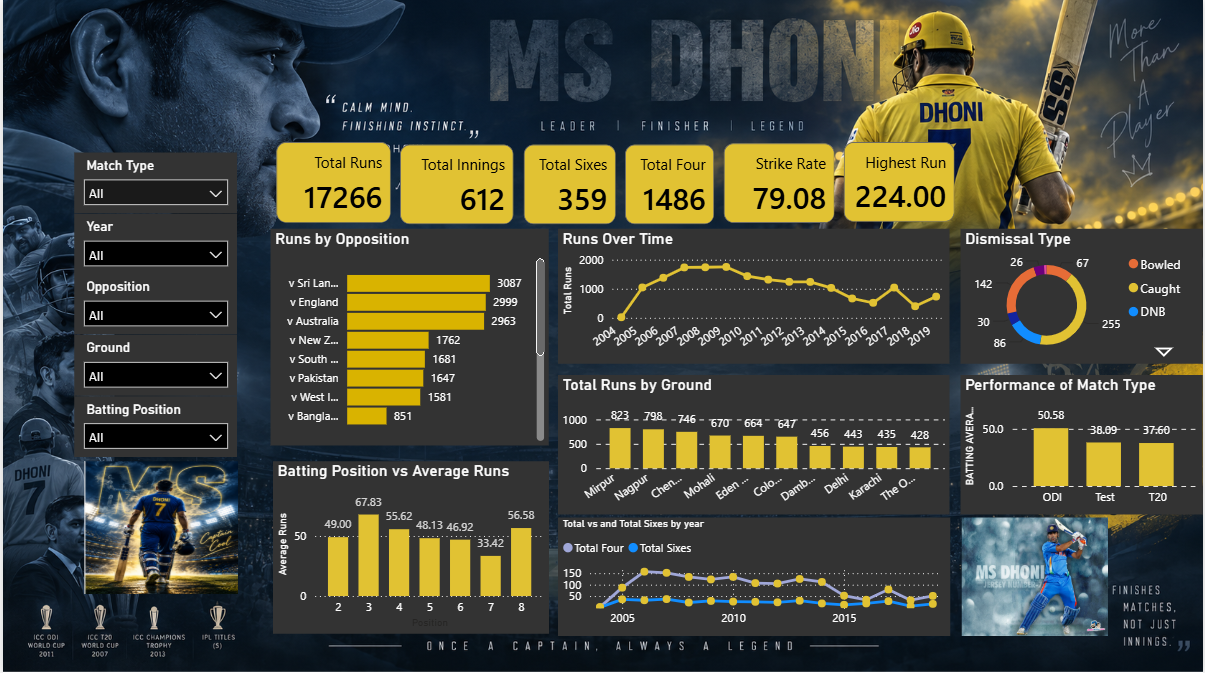

The page's visual inventory and layout, read from the dashboard file:
{"tool":"powerbi","page":{"name":"Page 1","canvas":[1280,720],"ordinal":0},"visuals":[{"type":"cardVisual","fields":{"Data":["FINAL Data MSD.TOTAL RUNS"]},"box":[286.2,146.2,132.5,96.2],"z":0},{"type":"cardVisual","fields":{"Data":["FINAL Data MSD.Total Innings"]},"box":[418.8,148.8,131.2,95],"z":1000},{"type":"cardVisual","fields":{"Data":["FINAL Data MSD.Total Sixes"]},"box":[550,148.8,108.8,95],"z":2000},{"type":"cardVisual","fields":{"Data":["FINAL Data MSD.Total Four"]},"box":[658.8,148.8,105,95],"z":3000},{"type":"cardVisual","fields":{"Data":["FINAL Data MSD.Strike Rate"]},"box":[764.1,148.5,128.3,95.2],"z":4000},{"type":"cardVisual","fields":{"Data":["FINAL Data MSD.Highest Run"]},"box":[892.5,147.1,128.3,95.2],"z":5000},{"type":"barChart","title":"Runs by Opposition","fields":{"Category":["FINAL Data MSD.Opposition"],"Y":["FINAL Data MSD.Total Runs"]},"box":[285.7,244.3,297.1,231.4],"z":6000},{"type":"lineChart","title":"Runs Over Time","fields":{"Category":["FINAL Data MSD.year"],"Y":["FINAL Data MSD.Total Runs"]},"box":[592.5,243.8,417.5,143.8],"z":7000},{"type":"donutChart","title":"Dismissal Type","fields":{"Series":["FINAL Data MSD.Dismissal"],"Y":["CountNonNull(FINAL Data MSD.Match_ID)"]},"box":[1021.2,243.8,258.8,143.8],"z":8000},{"type":"columnChart","fields":{"Category":["FINAL Data MSD.Ground"],"Y":["FINAL Data MSD.Total Runs"]},"box":[591.9,400,417.6,148.6],"z":9000},{"type":"columnChart","title":"Performance of Match Type ","fields":{"Category":["FINAL Data MSD.Match_Type"],"Y":["FINAL Data MSD.BATTING AVERAGE"]},"box":[1021.6,400,258.1,148.6],"z":10000},{"type":"columnChart","title":"Batting Position vs Average Runs","fields":{"Category":["FINAL Data MSD.Position"],"Y":["FINAL Data MSD.BATTING AVERAGE"]},"box":[287.8,491.9,294.6,183.8],"z":11000},{"type":"lineChart","title":"Total vs and Total Sixes by year","fields":{"Category":["FINAL Data MSD.year"],"Y":["FINAL Data MSD.Total Four","FINAL Data MSD.Total Sixes"]},"box":[592,552,418,126],"z":12000},{"type":"image","box":[1022,552,156,126],"z":13000},{"type":"slicer","fields":{"Values":["FINAL Data MSD.Match_Type"]},"box":[76.2,162.5,173.8,65],"z":14000},{"type":"slicer","fields":{"Values":["FINAL Data MSD.year"]},"box":[76.2,227.5,173.8,65],"z":15000},{"type":"slicer","fields":{"Values":["FINAL Data MSD.Opposition"]},"box":[76.2,292.5,173.8,65],"z":16000},{"type":"slicer","fields":{"Values":["FINAL Data MSD.Ground"]},"box":[76.2,357.5,173.8,65],"z":17000},{"type":"slicer","fields":{"Values":["FINAL Data MSD.Position"]},"box":[76.2,422.5,173.8,65],"z":18000},{"type":"image","box":[86.2,492.5,163.8,141.2],"z":19000}]}

Visuals, with their boxes in screenshot pixels (x1, y1, x2, y2), scaled from the page's 1280x720 canvas onto the 1205x673 screenshot:
cardVisual - FINAL Data MSD.TOTAL RUNS: l=269, t=137, r=394, b=227
cardVisual - FINAL Data MSD.Total Innings: l=394, t=139, r=518, b=228
cardVisual - FINAL Data MSD.Total Sixes: l=518, t=139, r=620, b=228
cardVisual - FINAL Data MSD.Total Four: l=620, t=139, r=719, b=228
cardVisual - FINAL Data MSD.Strike Rate: l=719, t=139, r=840, b=228
cardVisual - FINAL Data MSD.Highest Run: l=840, t=137, r=961, b=226
"Runs by Opposition" barChart: l=269, t=228, r=549, b=445
"Runs Over Time" lineChart: l=558, t=228, r=951, b=362
"Dismissal Type" donutChart: l=961, t=228, r=1204, b=362
columnChart - FINAL Data MSD.Ground x FINAL Data MSD.Total Runs: l=557, t=374, r=950, b=513
"Performance of Match Type " columnChart: l=962, t=374, r=1204, b=513
"Batting Position vs Average Runs" columnChart: l=271, t=460, r=548, b=632
"Total vs and Total Sixes by year" lineChart: l=557, t=516, r=951, b=634
image: l=962, t=516, r=1109, b=634
slicer - FINAL Data MSD.Match_Type: l=72, t=152, r=235, b=213
slicer - FINAL Data MSD.year: l=72, t=213, r=235, b=273
slicer - FINAL Data MSD.Opposition: l=72, t=273, r=235, b=334
slicer - FINAL Data MSD.Ground: l=72, t=334, r=235, b=395
slicer - FINAL Data MSD.Position: l=72, t=395, r=235, b=456
image: l=81, t=460, r=235, b=592
